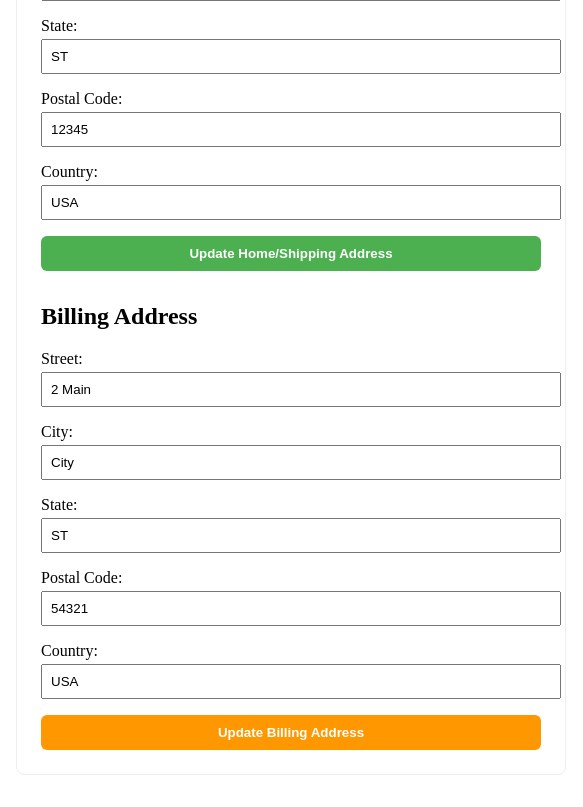
Scenario: Profile › submits billing address update
The width and height of the screenshot is (583, 807).
(page scrolled)
Click the button "Update Billing Address" at {"x": 291, "y": 732}, box [41, 715, 541, 750]
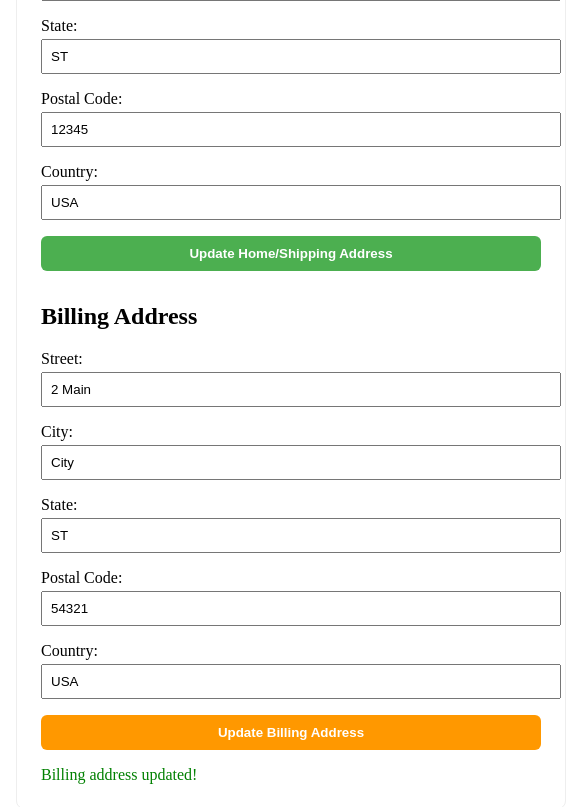
Now the text "Billing address updated!" is shown, box [41, 766, 197, 783]
